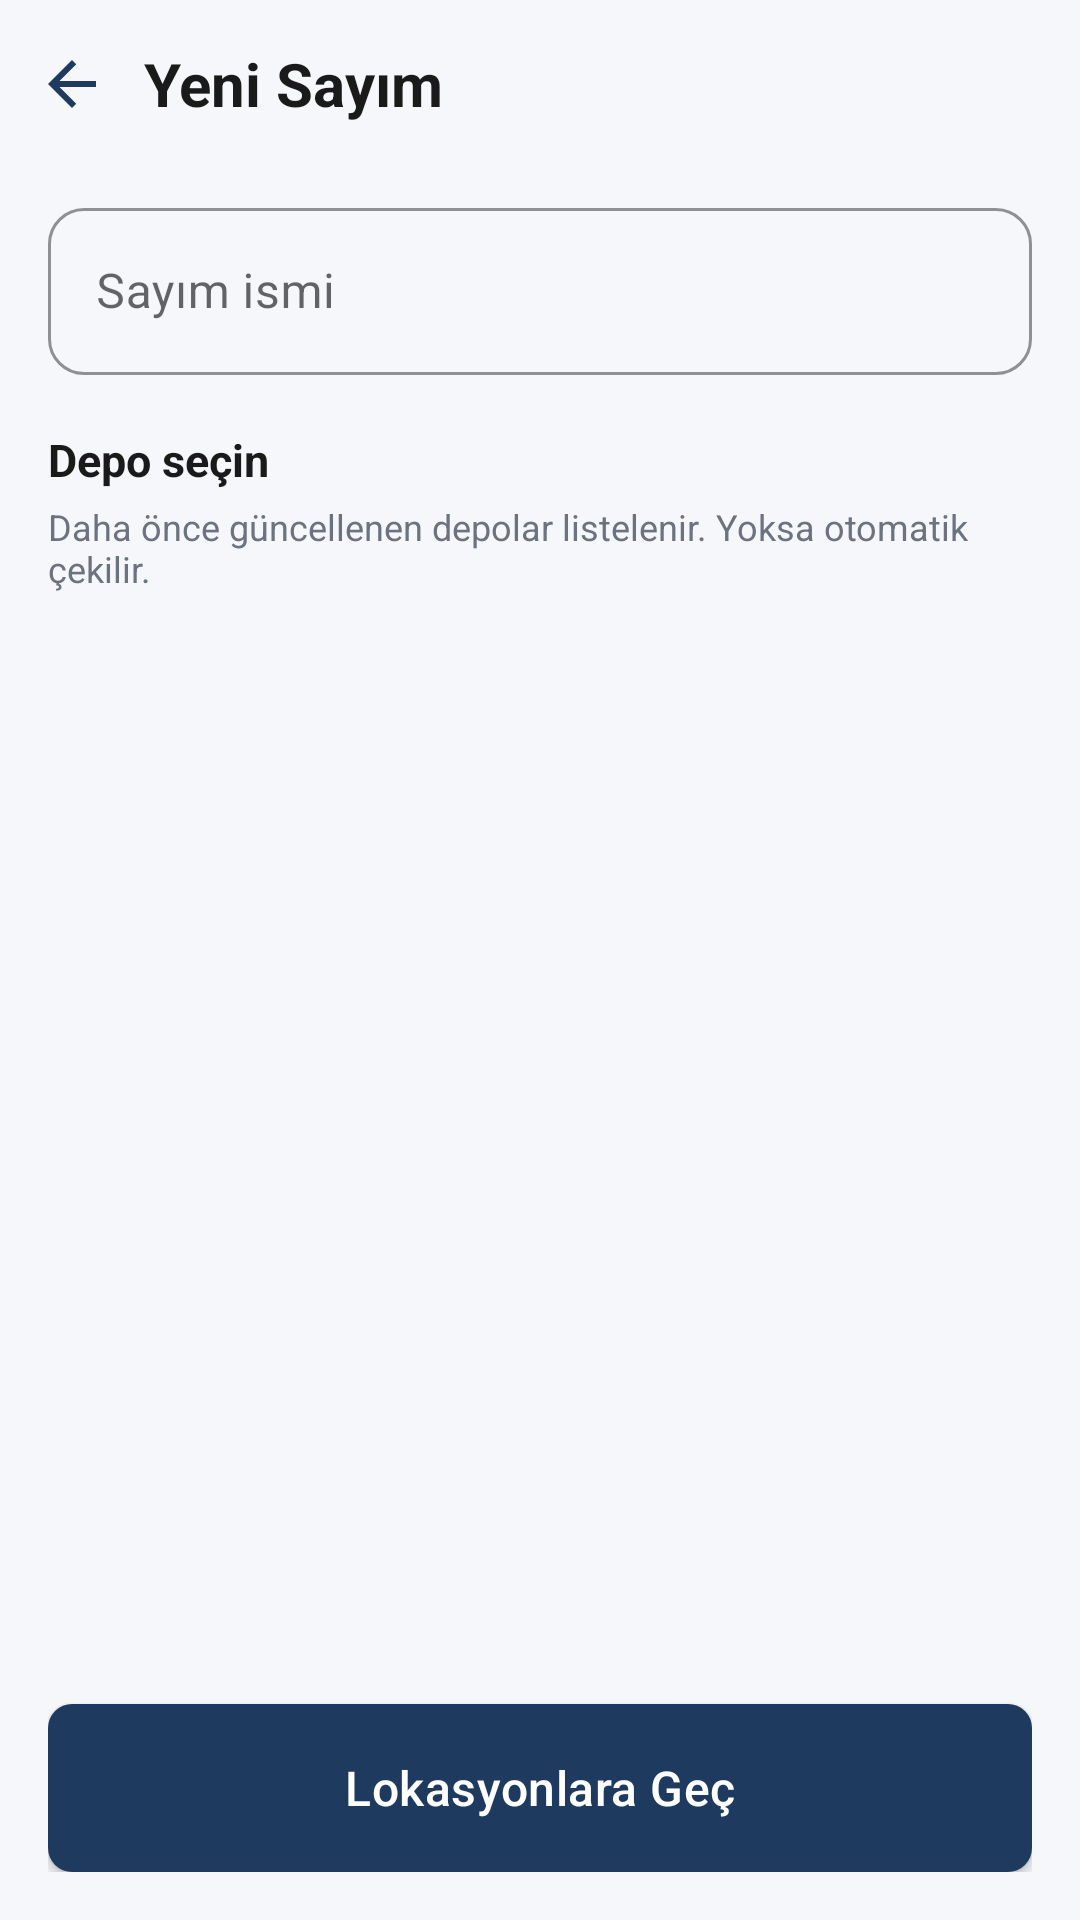

Named icons in this screenshot (1080px x 1920px) and their centers, (x,y):
Geri: (72,84)
